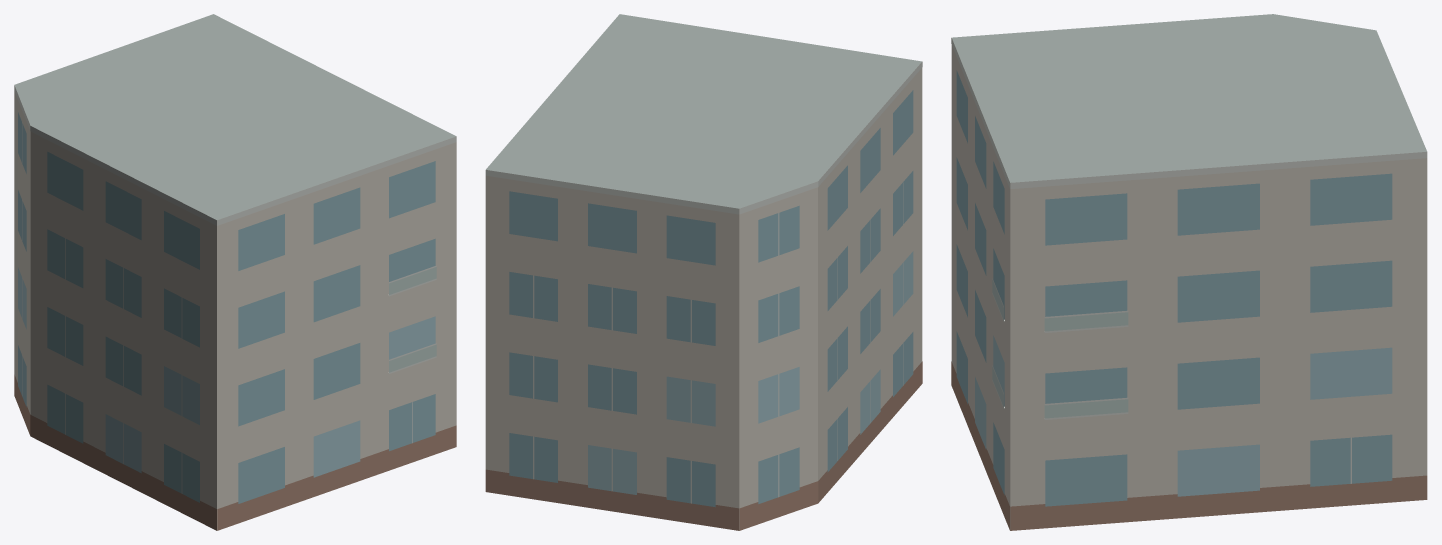
The model's file is survey-upis-32914111.glb.
The picture shows the model from 3 angles, left to right: view 1: azimuth 30°, elevation 25°; view 2: azimuth 150°, elevation 25°; view 3: azimuth 270°, elevation 25°; orthographic projection. The views are drawn at different scales.
Parts seen in each view (by area): view 1: survey-upis-32914111.tmp; view 2: survey-upis-32914111.tmp; view 3: survey-upis-32914111.tmp.
Boxes of the visible parts, box(x1,y1,x2,y2) form: survey-upis-32914111.tmp: box(14, 14, 456, 530); survey-upis-32914111.tmp: box(485, 14, 922, 530); survey-upis-32914111.tmp: box(951, 14, 1427, 530).
Size of the model in its own units: 14 by 13.45 by 16.67.
